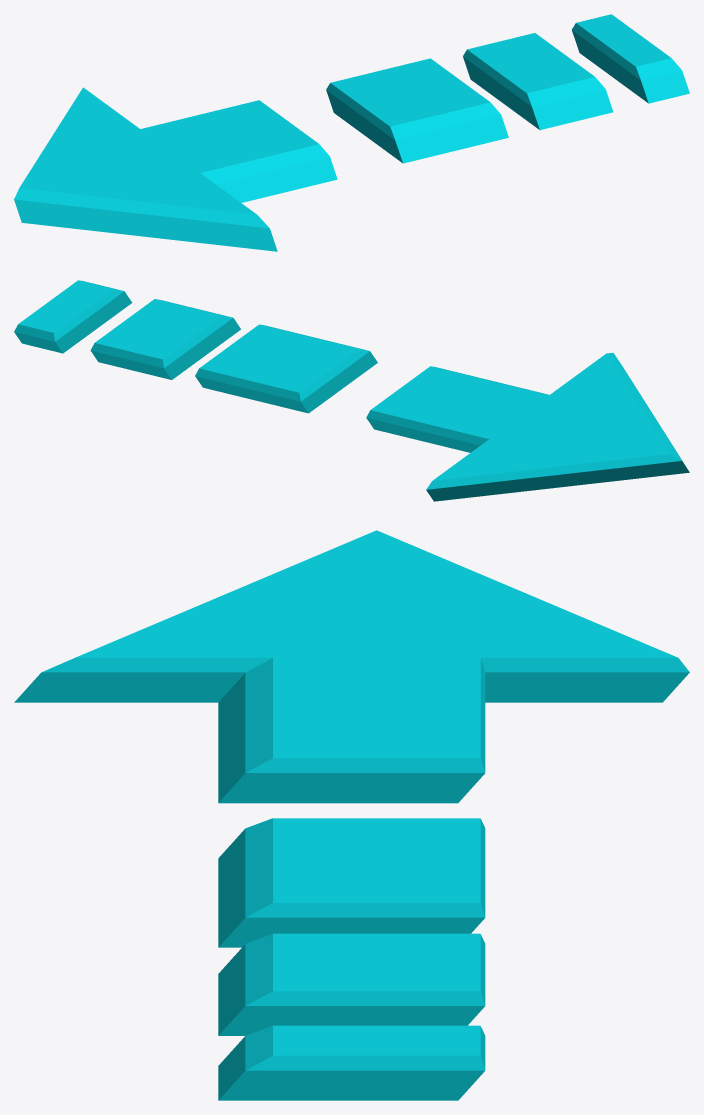
The model's file is flecha.glb.
3 renders of one model, top to bottom at view 1: azimuth 30°, elevation 25°; view 2: azimuth 150°, elevation 25°; view 3: azimuth 270°, elevation 25°, orthographic. The views are drawn at different scales.
Parts seen in each view (by area): view 1: Plane.008, Plane.004; view 2: Plane.008, Plane.004; view 3: Plane.008, Plane.004.
Boxes of the visible parts, box(x1,y1,x2,y2) form: Plane.008: box(14, 87, 337, 251); Plane.004: box(326, 14, 689, 163); Plane.008: box(366, 352, 689, 501); Plane.004: box(14, 280, 377, 413); Plane.008: box(14, 530, 689, 803); Plane.004: box(218, 818, 485, 1100).
Size of the model in its own units: 10.55 by 0.3922 by 5.63.
